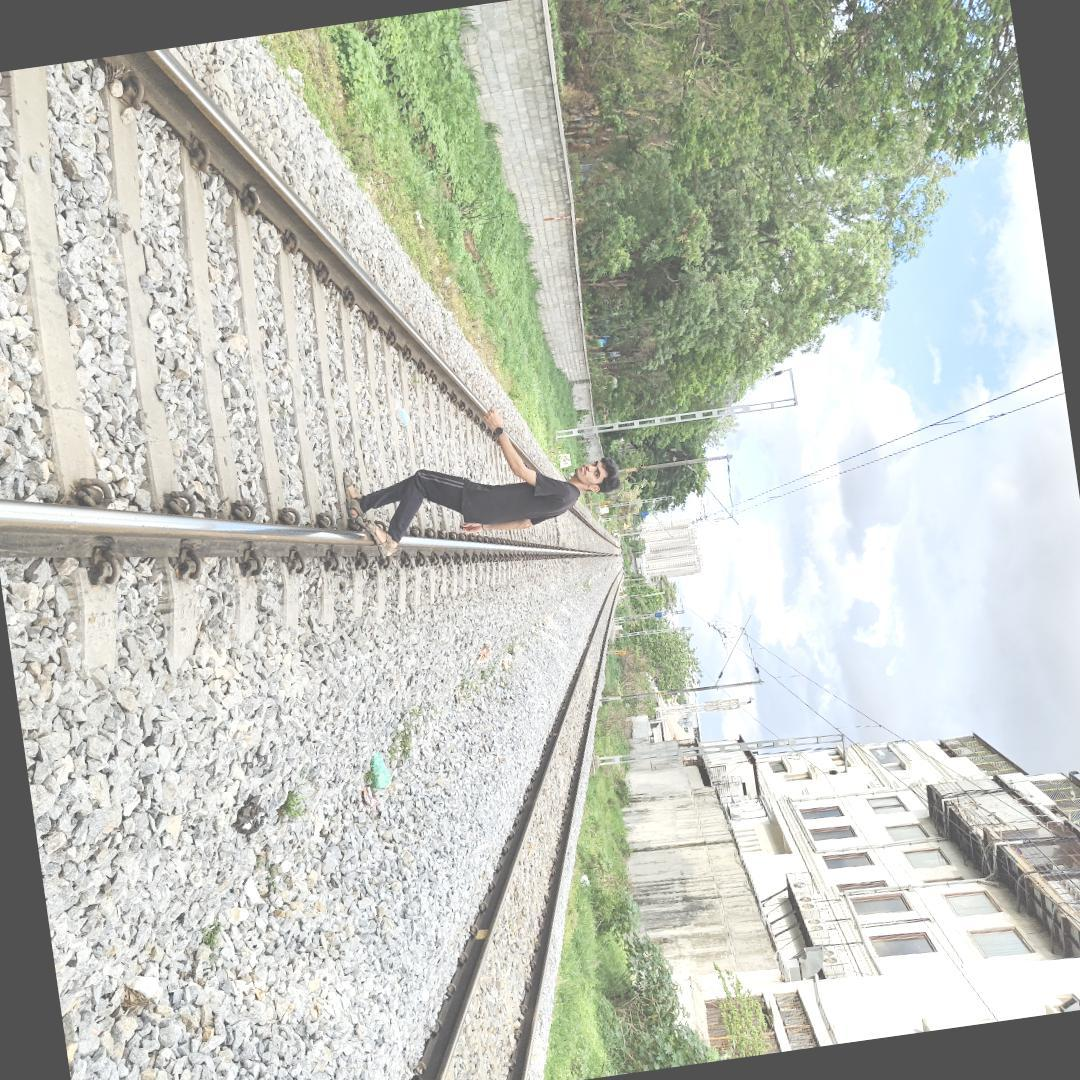standing: (335, 390, 626, 558)
